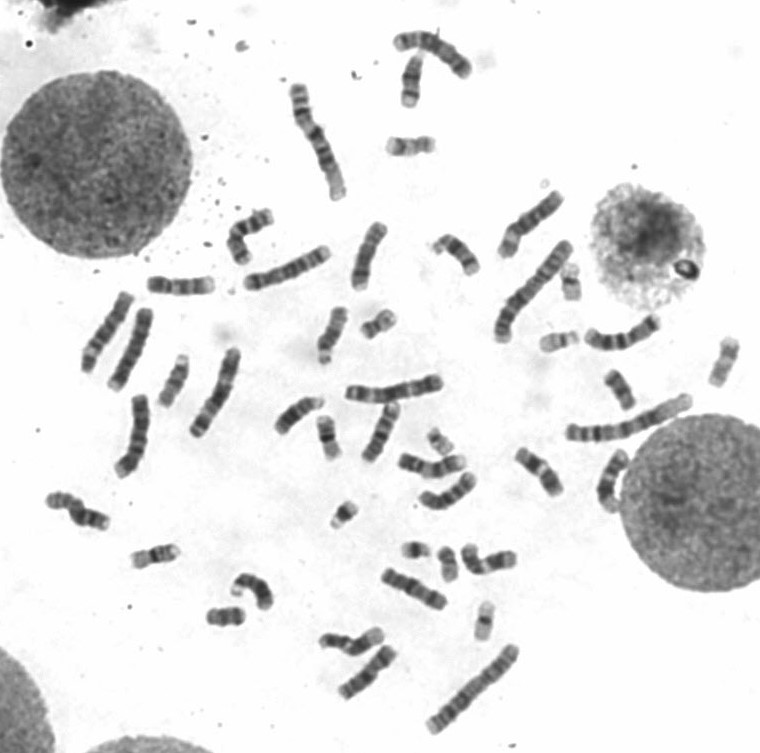chromosomes: (493, 233, 583, 347), (423, 642, 520, 740), (561, 384, 696, 446), (285, 80, 351, 205), (76, 286, 139, 380), (187, 340, 243, 444), (493, 185, 566, 262), (103, 301, 159, 395), (391, 23, 476, 82), (242, 242, 336, 295), (330, 642, 401, 708), (110, 385, 154, 485), (342, 368, 448, 406), (376, 563, 452, 613), (316, 618, 397, 664), (510, 441, 570, 503), (225, 202, 278, 271), (582, 310, 666, 353), (40, 486, 114, 534), (358, 396, 408, 467), (351, 215, 392, 293), (428, 226, 485, 282), (225, 560, 279, 617), (416, 468, 483, 512), (268, 391, 329, 439), (594, 447, 635, 518), (458, 541, 527, 581), (315, 300, 351, 375), (706, 332, 747, 396), (153, 351, 195, 410), (396, 449, 471, 482), (124, 541, 185, 577), (143, 271, 219, 299), (324, 493, 368, 536), (601, 368, 641, 415), (397, 52, 427, 111), (315, 412, 345, 470), (358, 302, 401, 342), (378, 132, 444, 158), (560, 259, 595, 305), (534, 325, 580, 359), (201, 604, 253, 630), (473, 597, 499, 647), (424, 425, 459, 460), (436, 542, 462, 586), (400, 537, 433, 563)
